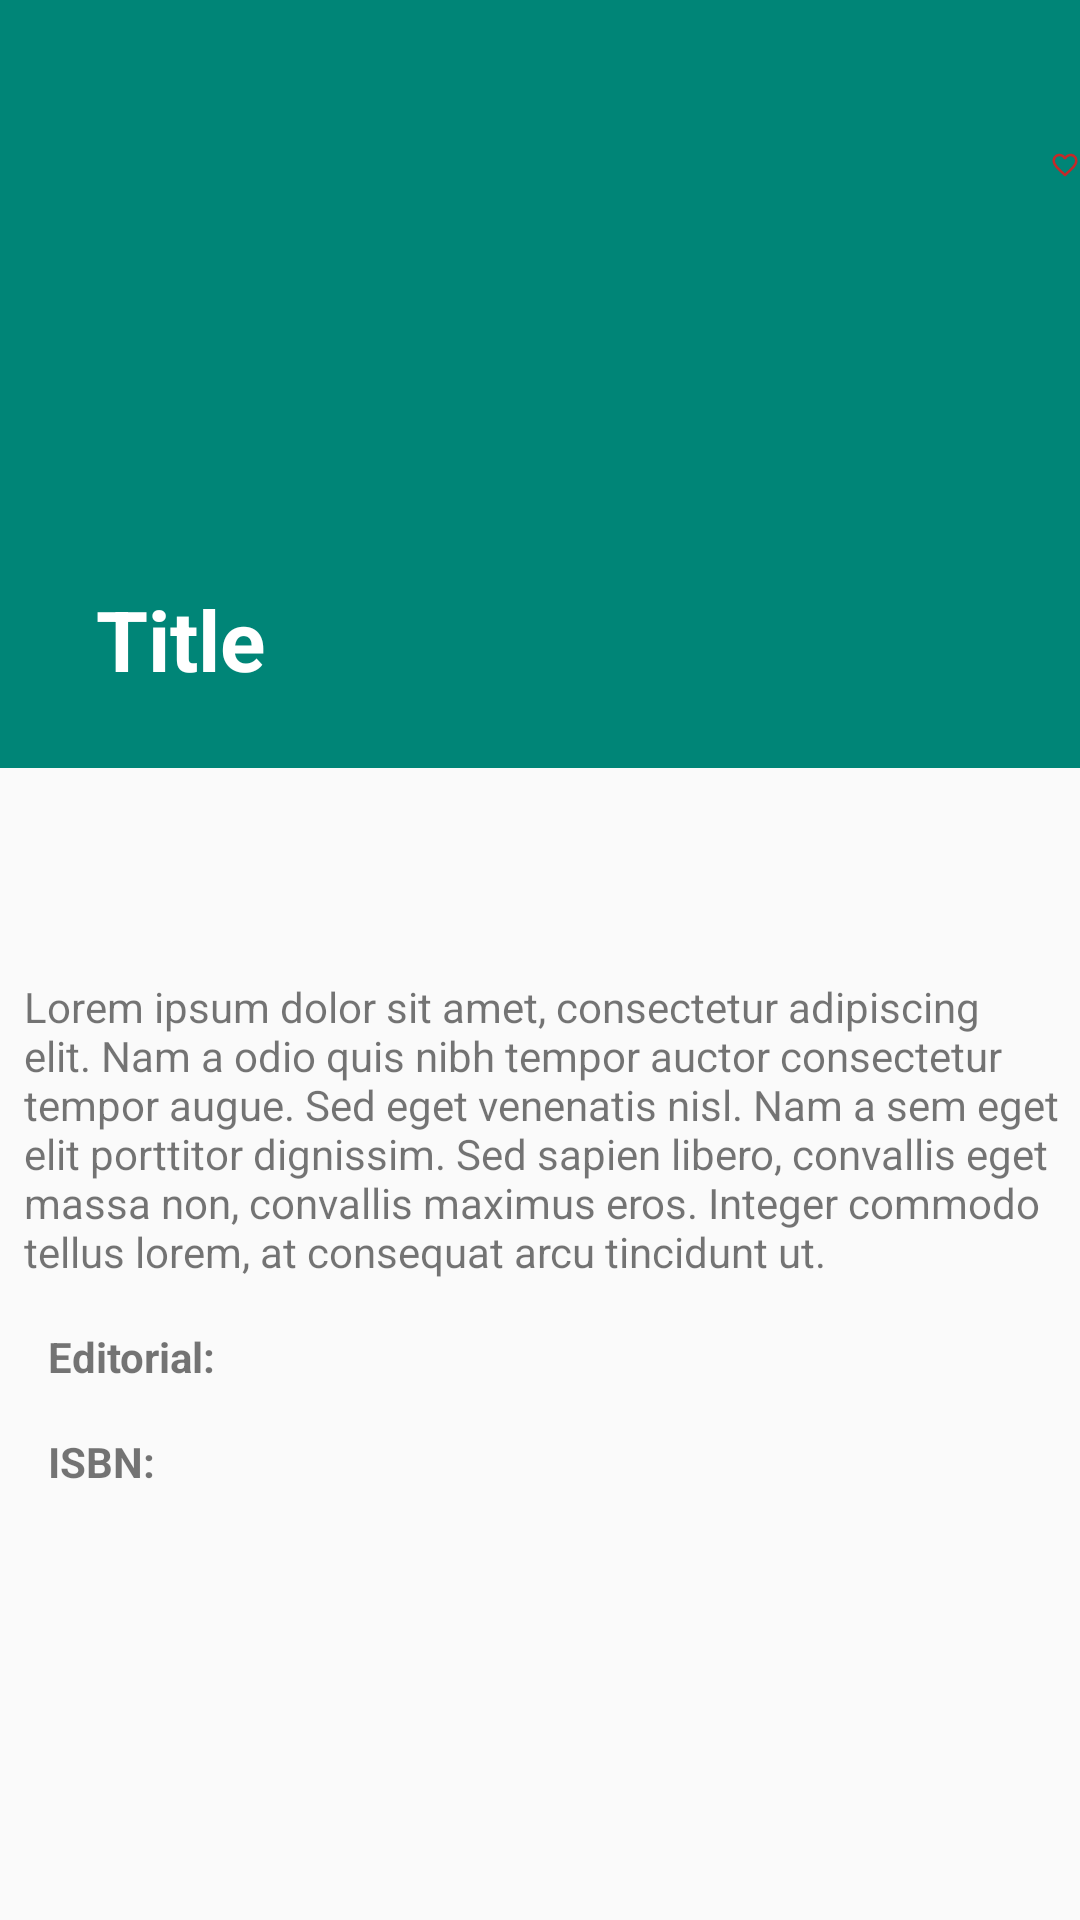

Icons on this 1080px x 1920px Android screen, each with its box as (x1, y1, x2, y2):
favorite border: (1052, 153, 1078, 177)
